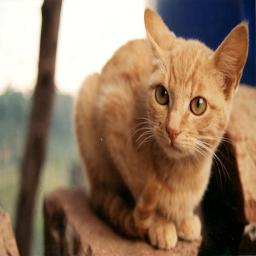catnose: (165, 126, 181, 142)
